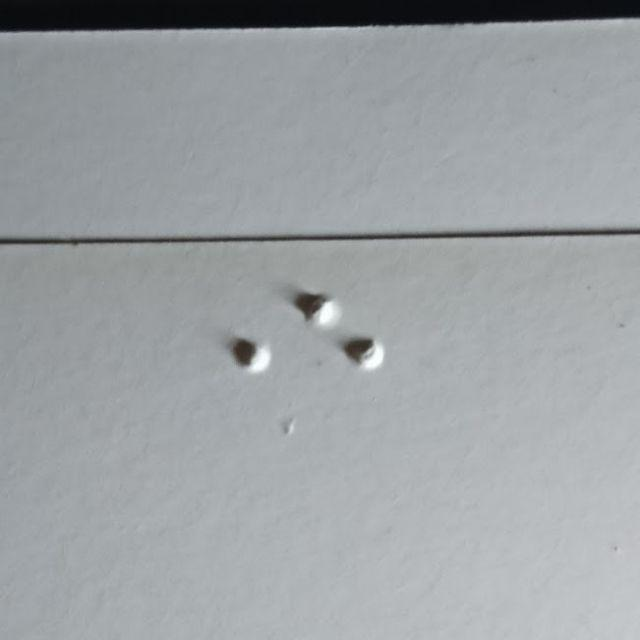dot_5: (182, 295, 271, 421)
ewan: (296, 294, 385, 419)
